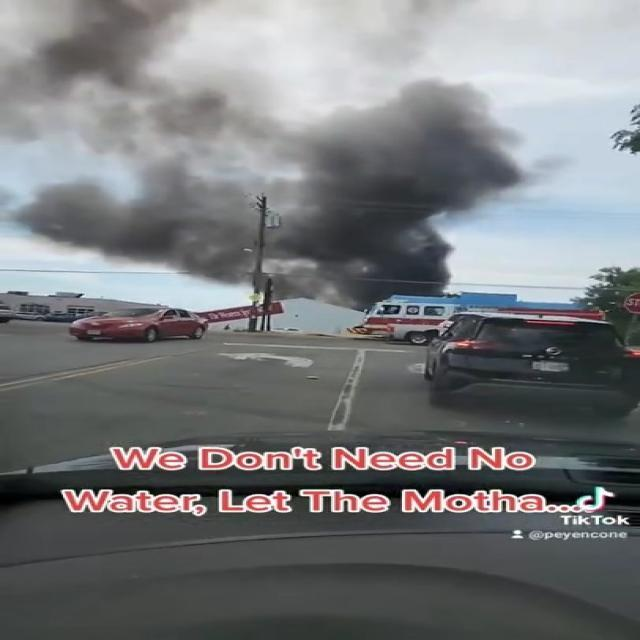Smoke: (277, 80, 529, 302)
